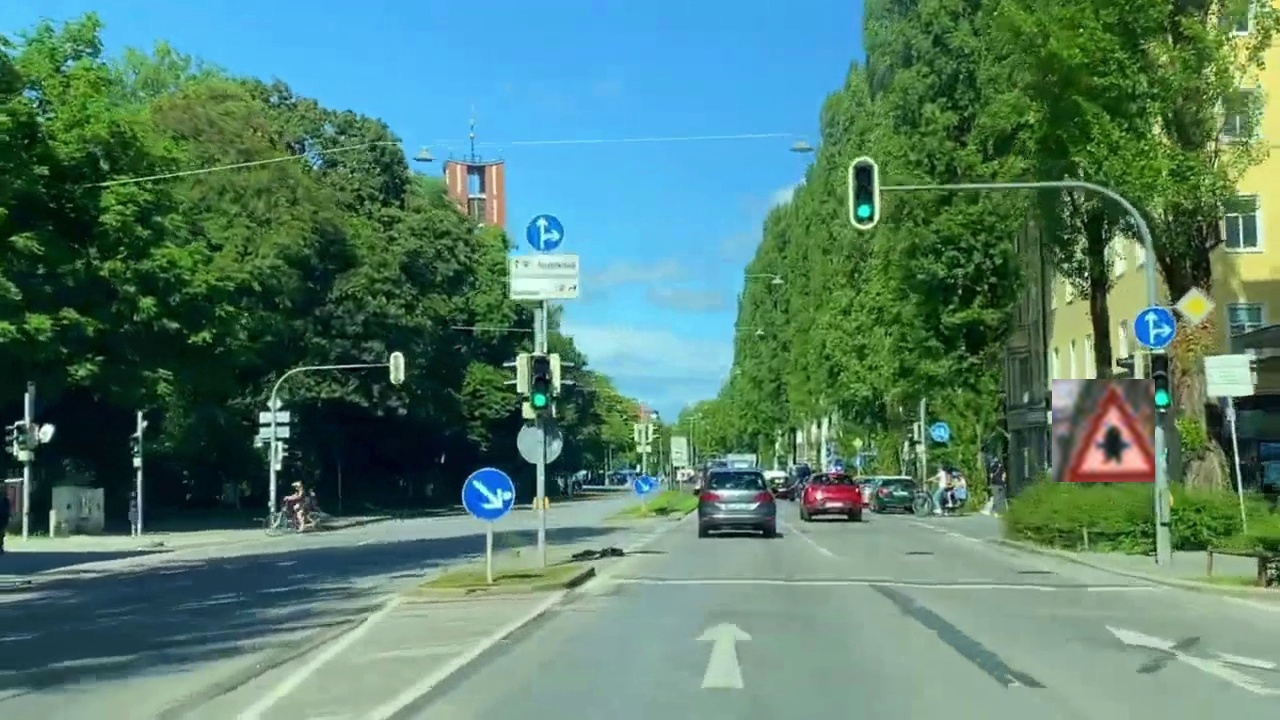Right-of-way: (1052, 379, 1155, 482)
